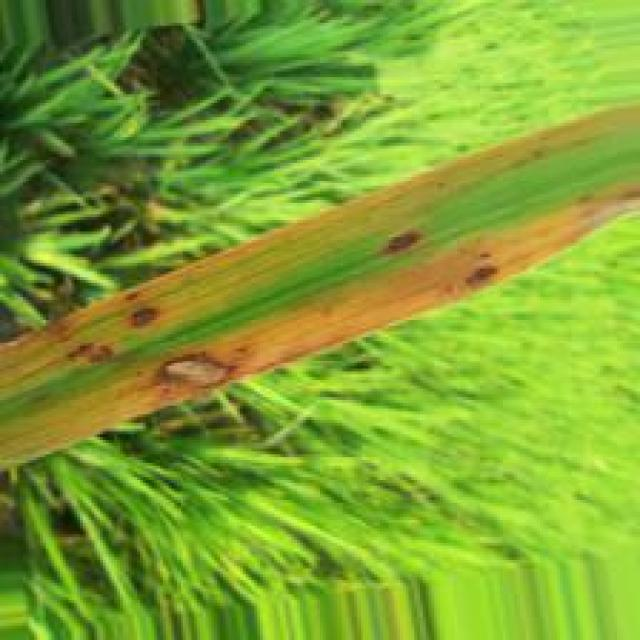Leaf_Blast: (144, 353, 244, 389), (461, 257, 508, 291), (378, 229, 432, 256), (127, 299, 161, 330)
